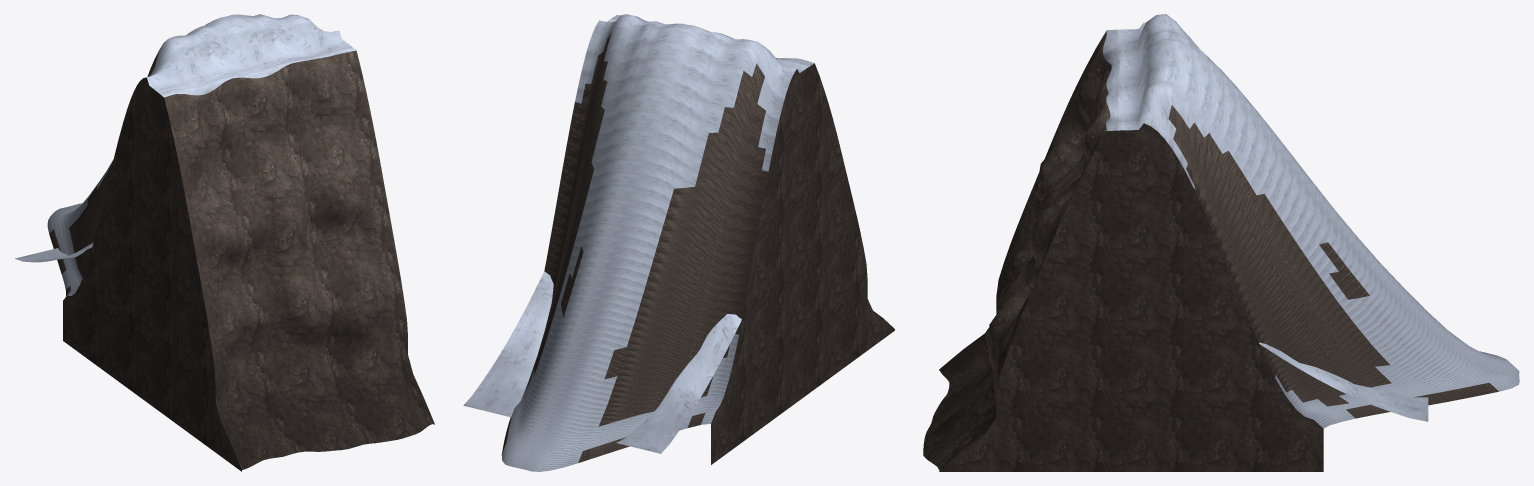
The model's file is seacliff_straight6b_h8_v5_winter.glb.
3 views of the same model, side by side, from view 1: azimuth 30°, elevation 25°; view 2: azimuth 150°, elevation 25°; view 3: azimuth 270°, elevation 25° (orthographic). The views are drawn at different scales.
Visible parts, largest first — view 1: seacliff_straight6b_h8; view 2: seacliff_straight6b_h8; view 3: seacliff_straight6b_h8.
Part boxes in pixels (x1,y1,x2,y2): seacliff_straight6b_h8: (15,14,434,471); seacliff_straight6b_h8: (463,14,894,471); seacliff_straight6b_h8: (923,14,1519,471).
Bounding box in the file's own units: 6 × 10.47 × 14.99.
Materials: 2 (2 with a texture image).
